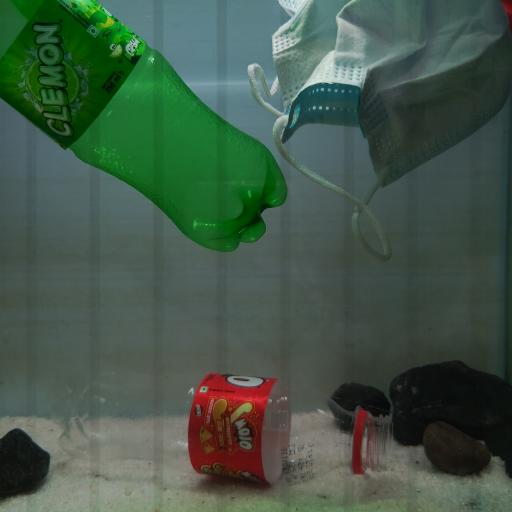mask: (247, 0, 511, 259)
plastic_bottle: (1, 1, 287, 252), (51, 368, 394, 484)
